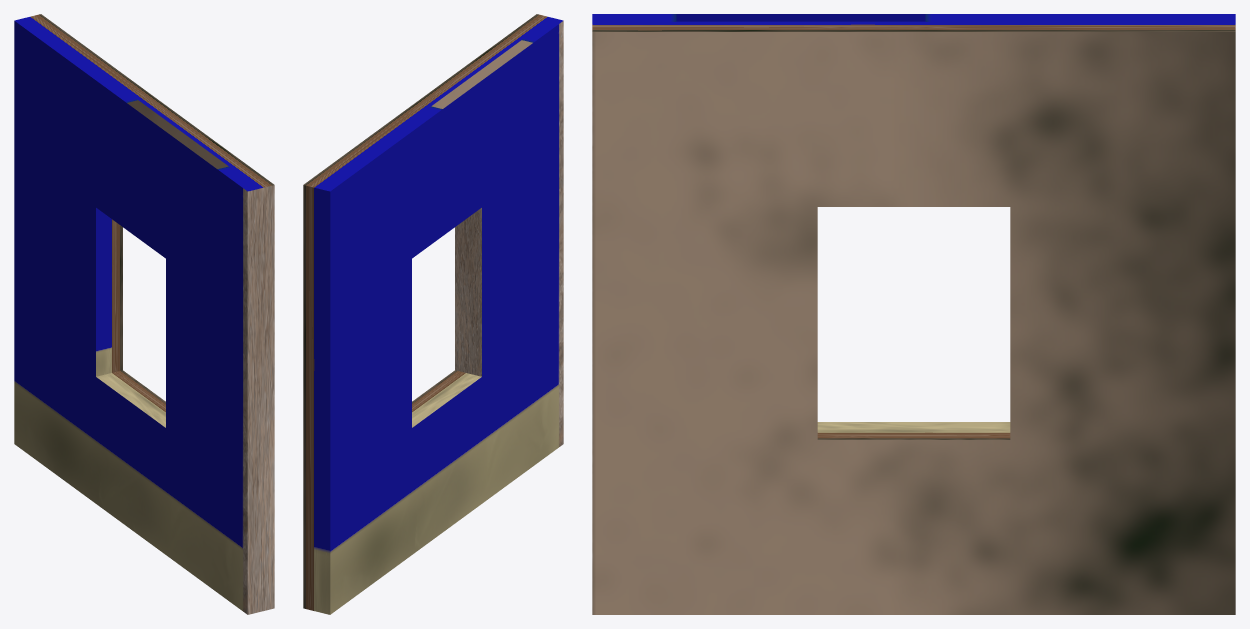
Rendered from windowWall.fbx.
3 renders of one model, left to right at view 1: azimuth 30°, elevation 25°; view 2: azimuth 150°, elevation 25°; view 3: azimuth 270°, elevation 25°, orthographic. The views are drawn at different scales.
Visible parts, largest first — view 1: window wall; view 2: window wall; view 3: window wall.
Boxes of the visible parts, <box> form: window wall: <box>14,14,274,614</box>; window wall: <box>303,14,563,614</box>; window wall: <box>592,14,1235,614</box>.
Bounding box in the file's own units: 20 × 300 × 300.
